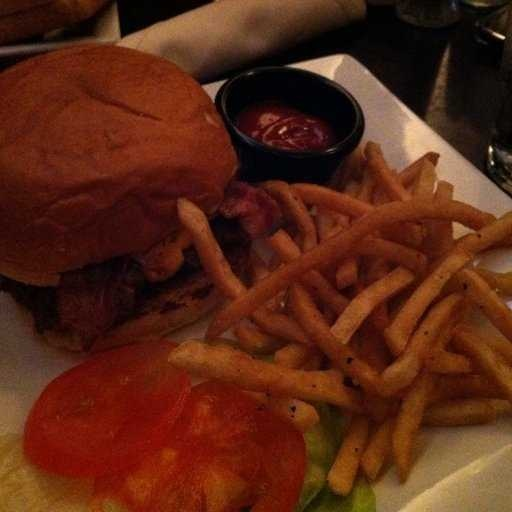hamburger: (1, 32, 225, 359)
